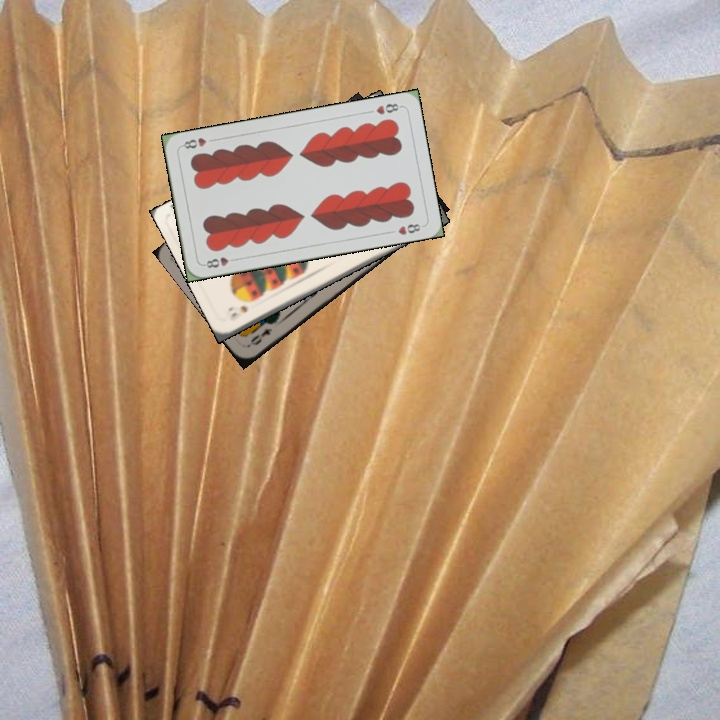EO: (244, 324, 275, 349)
H8: (200, 253, 240, 270), (372, 99, 404, 117)
S10: (225, 302, 250, 324)
